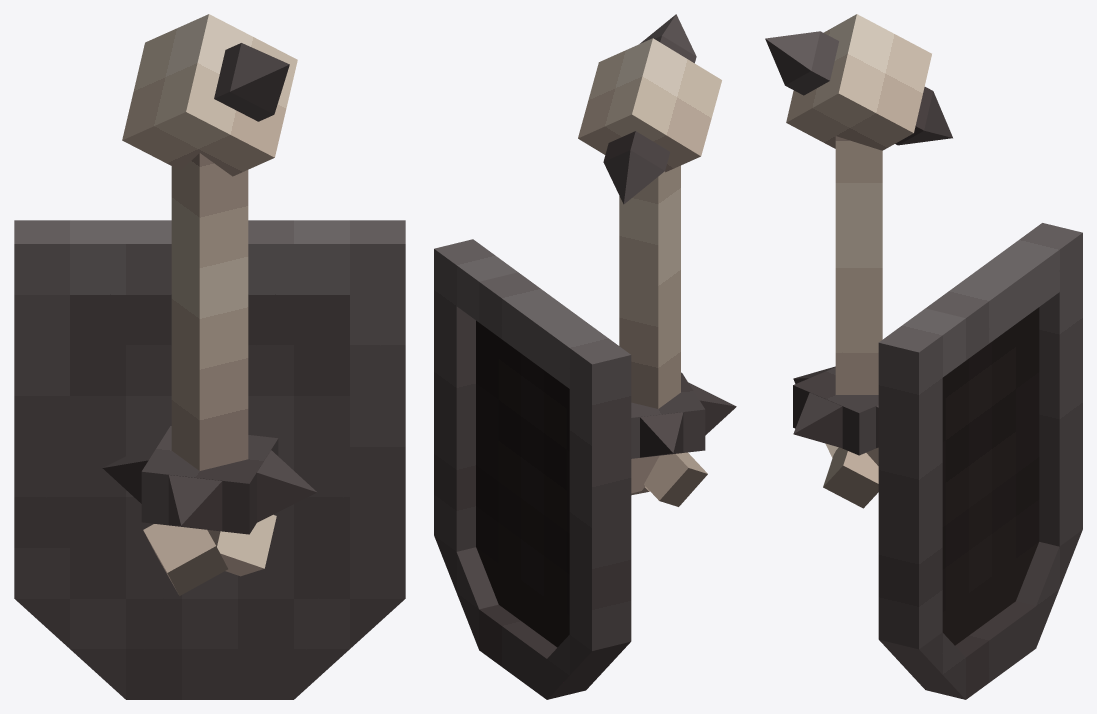
File: arm_shield_r.obj
3 renders of one model, left to right at view 1: azimuth 30°, elevation 25°; view 2: azimuth 150°, elevation 25°; view 3: azimuth 270°, elevation 25°, orthographic. The views are drawn at different scales.
Visible parts, largest first — view 1: ARM_RIGHT_BONE_SHIELD_Cube.454; view 2: ARM_RIGHT_BONE_SHIELD_Cube.454; view 3: ARM_RIGHT_BONE_SHIELD_Cube.454.
Part boxes in pixels (box(x1,y1,x2,y2)): ARM_RIGHT_BONE_SHIELD_Cube.454: box(14, 14, 405, 699); ARM_RIGHT_BONE_SHIELD_Cube.454: box(434, 14, 736, 699); ARM_RIGHT_BONE_SHIELD_Cube.454: box(765, 14, 1082, 699).
Bounding box in the file's own units: 0.4101 × 0.9207 × 0.4245.
